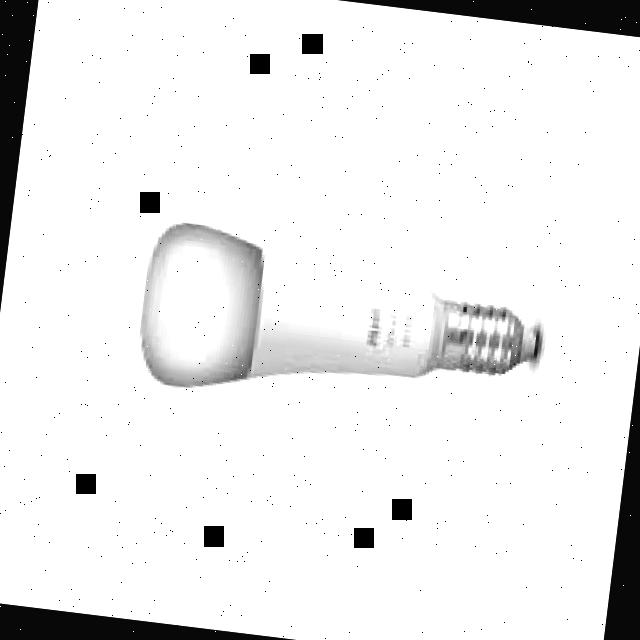light_bulb: (116, 200, 568, 446)
